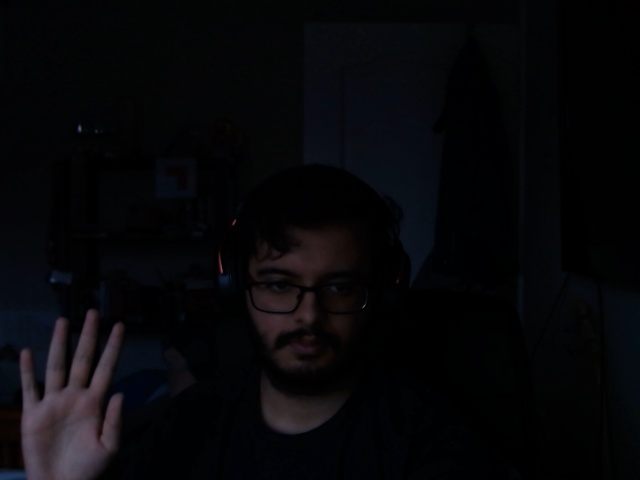Hello: (6, 303, 144, 480)
